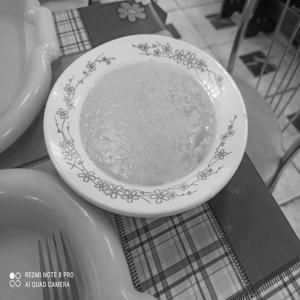porridge: (64, 55, 226, 200)
